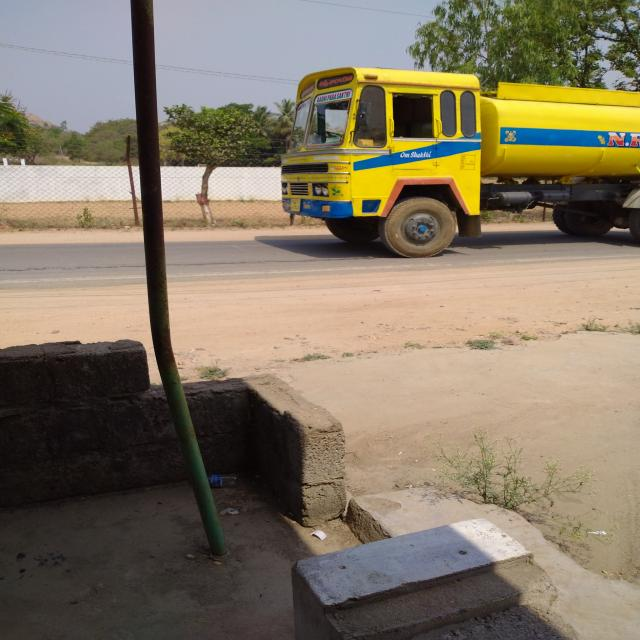truck: (262, 51, 640, 264)
